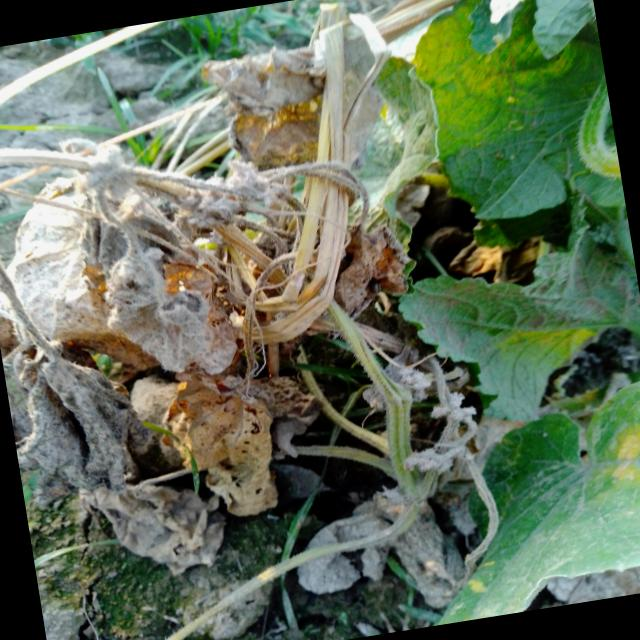cucumber_bacterial: (2, 330, 236, 619), (173, 11, 361, 207), (301, 458, 486, 638), (110, 376, 292, 542), (75, 217, 232, 389)
